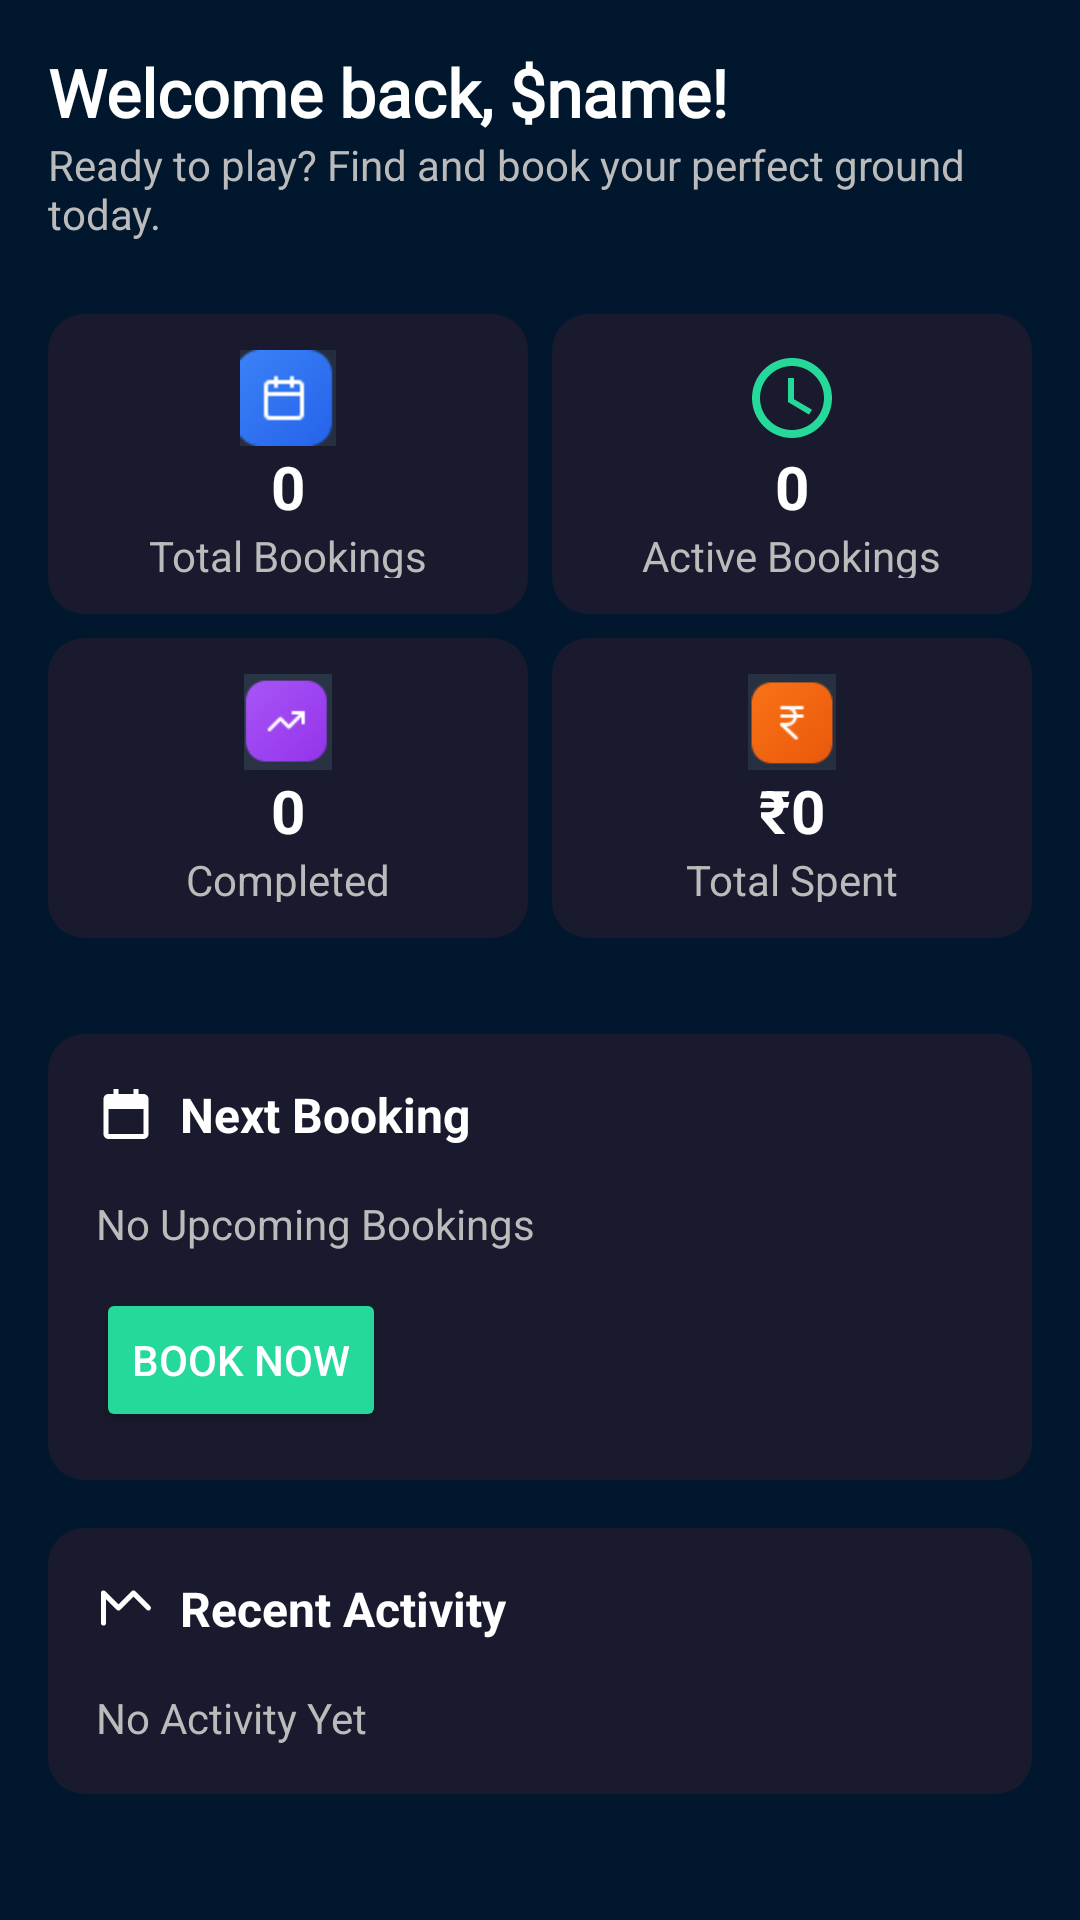

Locate icon controls on the screen. Image size 1080w x 1920h, boxes as (x1, y1, x2, y2).
Clock Icon: (752, 358, 832, 438)
Rupee Icon: (751, 682, 833, 764)
